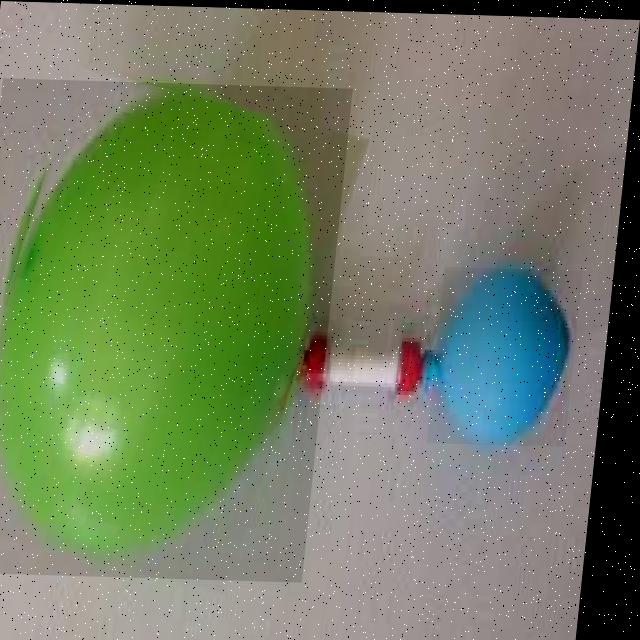balloon: (0, 77, 354, 579), (435, 263, 587, 442)
